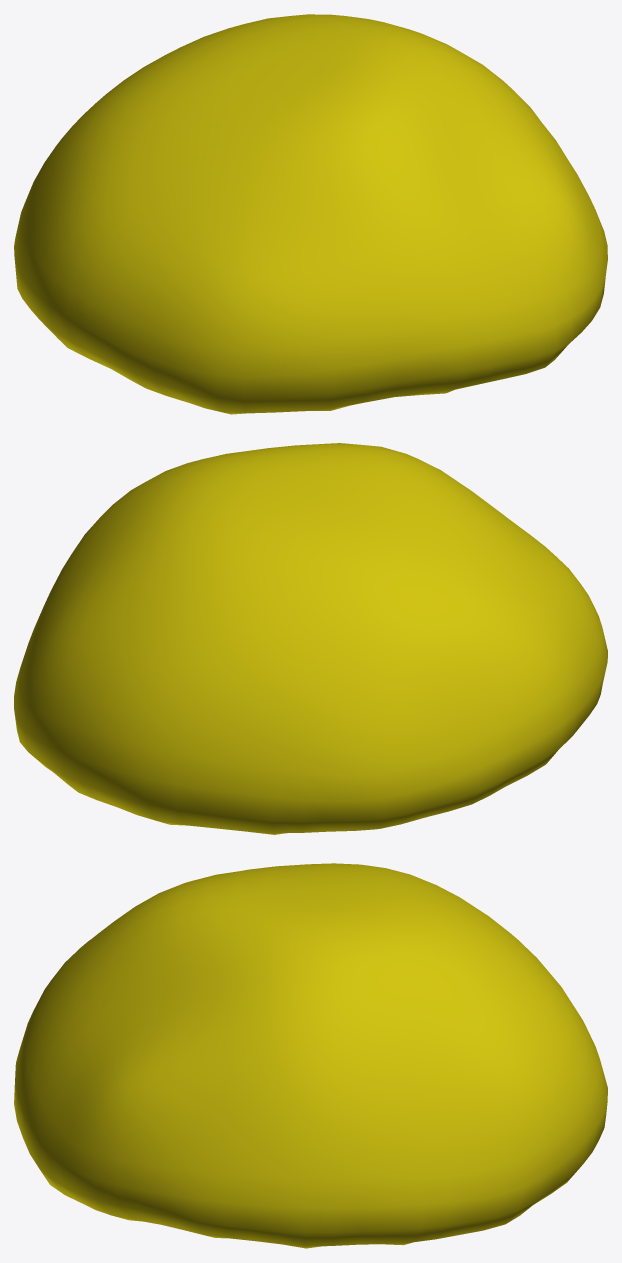
File: stone_yellow.glb
3 views of the same model, one above another, from view 1: azimuth 30°, elevation 25°; view 2: azimuth 150°, elevation 25°; view 3: azimuth 270°, elevation 25° (orthographic).
Parts seen in each view (by area): view 1: Cube; view 2: Cube; view 3: Cube.
Part boxes in pixels (left/top/right/bottom): Cube: left=14, top=14, right=607, bottom=414; Cube: left=14, top=443, right=607, bottom=834; Cube: left=14, top=863, right=607, bottom=1248.
Size of the model in its own units: 1.55 by 0.7969 by 1.57.
